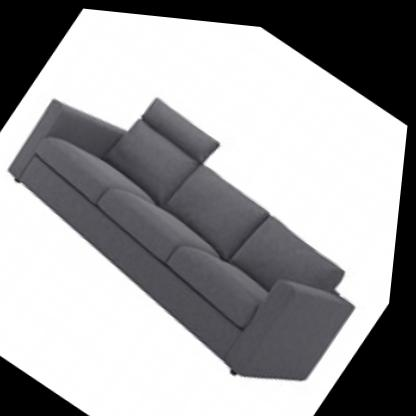Sofa: (0, 20, 414, 416)
